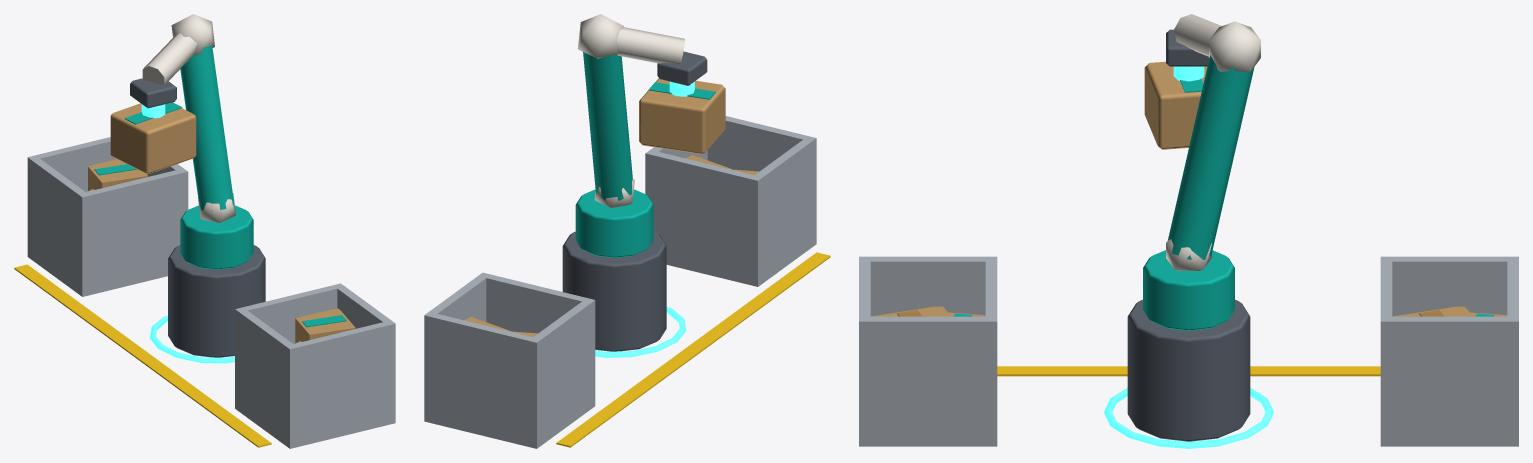
File: station_transport_ausstattung_3_3.glb
The picture shows the model from 3 angles, left to right: view 1: azimuth 30°, elevation 25°; view 2: azimuth 150°, elevation 25°; view 3: azimuth 270°, elevation 25°; orthographic projection. The views are drawn at different scales.
Parts seen in each view (by area): view 1: station_transport_ausstattung_3_3; view 2: station_transport_ausstattung_3_3; view 3: station_transport_ausstattung_3_3.
Boxes of the visible parts, left/top/right/bottom form: station_transport_ausstattung_3_3: left=14, top=14, right=395, bottom=448; station_transport_ausstattung_3_3: left=424, top=14, right=830, bottom=448; station_transport_ausstattung_3_3: left=859, top=14, right=1518, bottom=448.
Size of the model in its own units: 0.5856 by 1.13 by 1.72.
